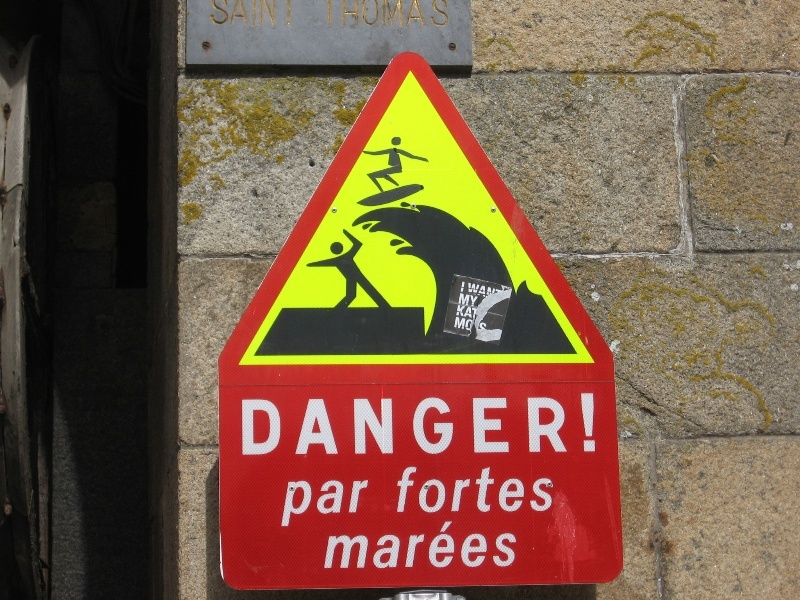text: (241, 392, 256, 456), (257, 392, 272, 456), (273, 392, 288, 456), (289, 392, 304, 456), (305, 392, 320, 456), (321, 392, 336, 456), (337, 392, 352, 456), (353, 392, 368, 456), (369, 392, 384, 456), (385, 392, 400, 456), (401, 392, 416, 456), (417, 392, 432, 456), (433, 392, 448, 456), (449, 392, 464, 456), (465, 392, 480, 456), (481, 392, 496, 456), (497, 392, 512, 456), (513, 392, 528, 456), (529, 392, 544, 456), (545, 392, 560, 456), (561, 392, 576, 456), (577, 392, 592, 456), (337, 517, 352, 571), (353, 517, 368, 571), (369, 517, 384, 571), (385, 517, 400, 571), (401, 517, 416, 571), (417, 517, 432, 571), (433, 517, 448, 571), (449, 517, 464, 571), (465, 517, 480, 571), (481, 517, 496, 571), (497, 517, 512, 571), (289, 479, 304, 527), (305, 479, 320, 527), (321, 479, 336, 527), (337, 479, 352, 527), (353, 479, 368, 527), (401, 466, 416, 513), (417, 466, 432, 513), (433, 466, 448, 513), (449, 466, 464, 513), (465, 466, 480, 513), (481, 466, 496, 513), (497, 466, 512, 513), (513, 466, 528, 513), (529, 466, 544, 513), (545, 466, 558, 513), (337, 1, 352, 28), (353, 1, 368, 28), (369, 1, 384, 28), (385, 1, 400, 28), (401, 1, 416, 28), (417, 1, 432, 28), (433, 1, 448, 28), (225, 1, 240, 28), (241, 1, 256, 28), (257, 1, 272, 28), (273, 1, 288, 28), (323, 1, 336, 28), (211, 1, 224, 28), (330, 517, 336, 571), (481, 283, 496, 302), (465, 316, 480, 334), (593, 392, 597, 456), (468, 283, 480, 302), (513, 517, 517, 571), (465, 293, 479, 307), (465, 305, 479, 319), (456, 316, 464, 334), (289, 1, 294, 28), (497, 283, 504, 302), (481, 316, 487, 334), (458, 305, 464, 319), (460, 293, 464, 307), (449, 1, 451, 28), (287, 479, 288, 527), (369, 479, 370, 527), (462, 281, 464, 293), (465, 281, 466, 293)
